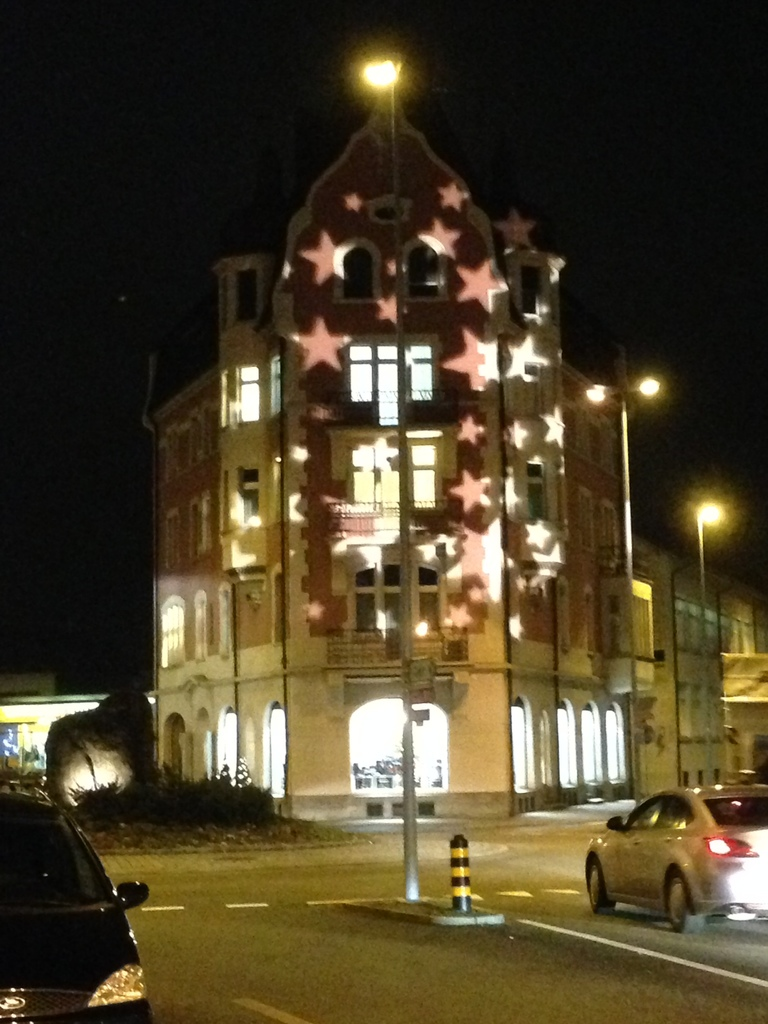Car: (0, 777, 158, 1023), (577, 784, 767, 947)
